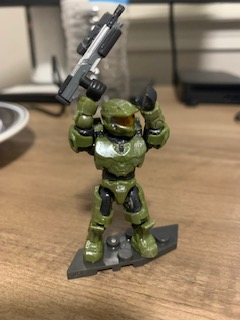chief: (68, 78, 170, 265)
rifle: (52, 3, 126, 111)
spartan: (66, 76, 170, 263)
up: (67, 77, 171, 180)
